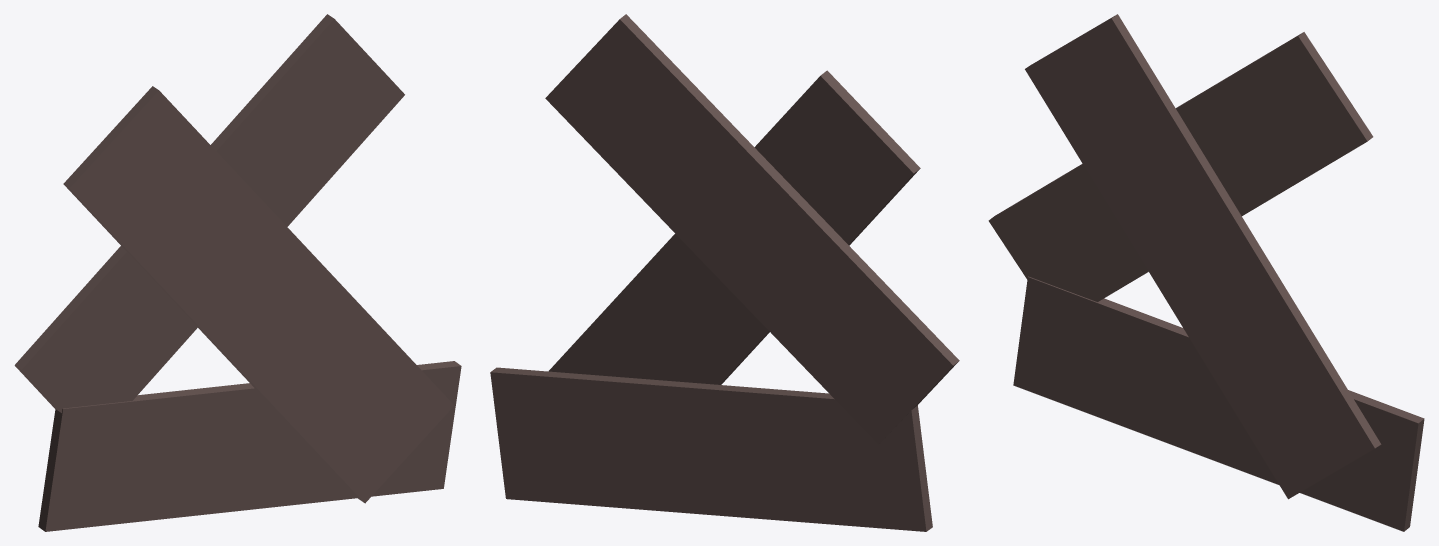
The model's file is Module_Building_Window_Boards1.fbx.
3 renders of one model, left to right at view 1: azimuth 30°, elevation 25°; view 2: azimuth 150°, elevation 25°; view 3: azimuth 330°, elevation 25°, orthographic. The views are drawn at different scales.
Visible parts, largest first — view 1: Module_Building_Window_Boards1; view 2: Module_Building_Window_Boards1; view 3: Module_Building_Window_Boards1.
Part boxes in pixels (x1,y1,x2,y2): Module_Building_Window_Boards1: (14,14,461,531); Module_Building_Window_Boards1: (490,14,959,531); Module_Building_Window_Boards1: (988,14,1424,531).
Bounding box in the file's own units: 77.5 × 82.34 × 8.56.
